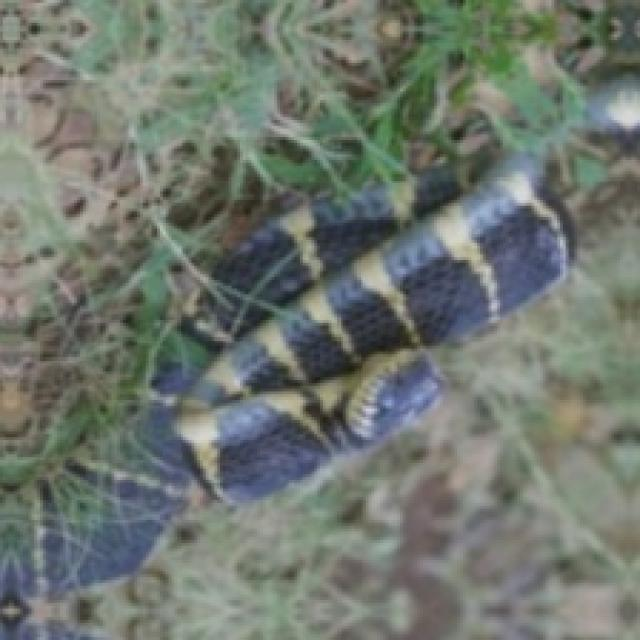mangrove cat snake: (169, 149, 580, 506)
